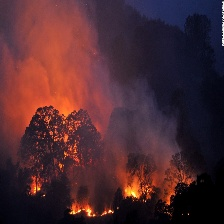fire: (68, 205, 117, 220), (29, 173, 43, 198), (121, 185, 140, 200)
smoke: (1, 6, 182, 168)
